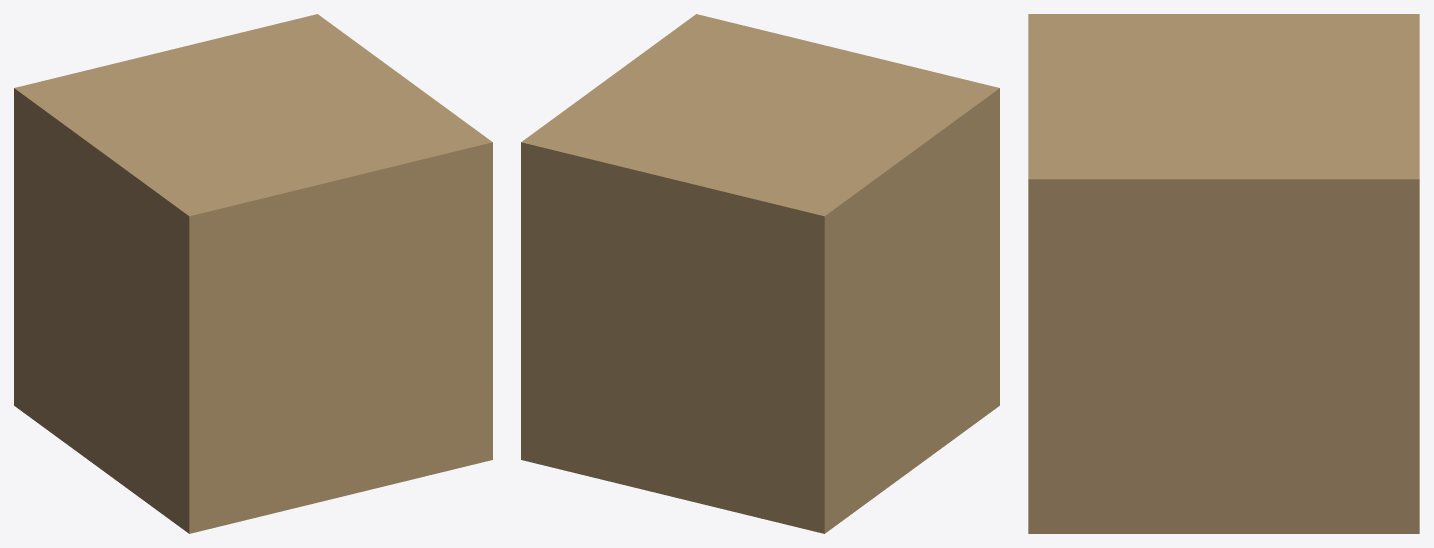
Rendered from crate_2.glb.
3 views of the same model, side by side, from view 1: azimuth 30°, elevation 25°; view 2: azimuth 150°, elevation 25°; view 3: azimuth 270°, elevation 25° (orthographic). The views are drawn at different scales.
Parts seen in each view (by area): view 1: crate_2; view 2: crate_2; view 3: crate_2.
Part boxes in pixels (<box>): crate_2: <box>14,14,492,533</box>; crate_2: <box>521,14,999,533</box>; crate_2: <box>1028,14,1419,533</box>.
Size of the model in its own units: 0.7 by 0.7 by 0.7.
